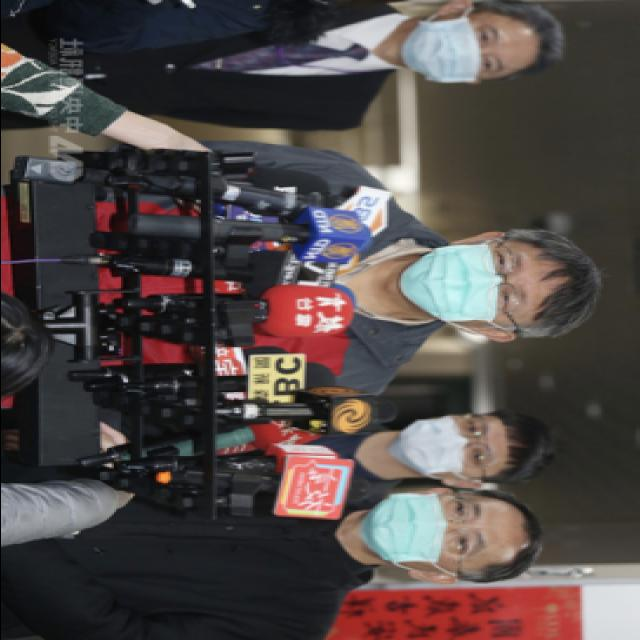with_mask: (407, 242, 539, 328), (367, 489, 494, 572), (402, 14, 516, 80), (398, 414, 502, 478)
